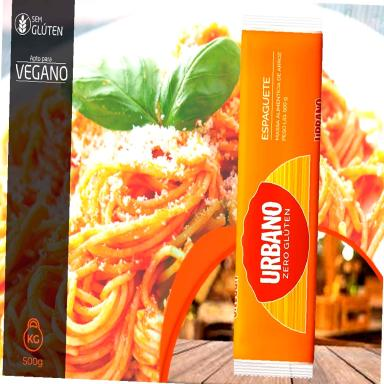pasta package: (234, 17, 322, 378)
